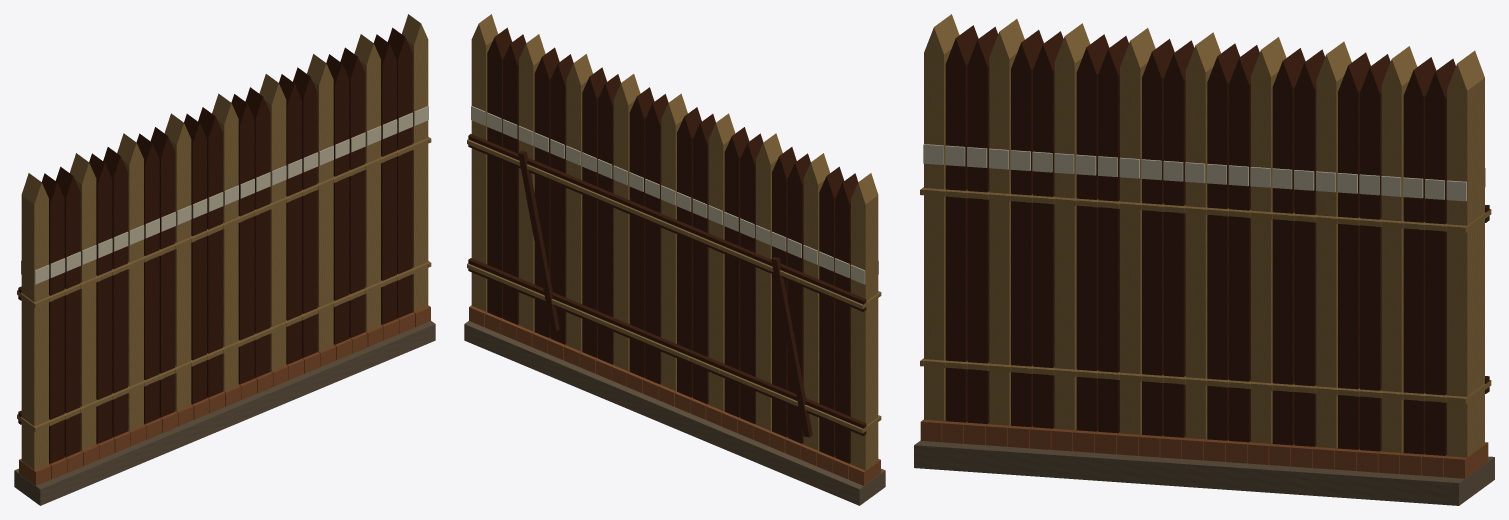
File: Berber_Palisade_Age3_slope_up_6m.fbx
The picture shows the model from 3 angles, left to right: view 1: azimuth 30°, elevation 25°; view 2: azimuth 150°, elevation 25°; view 3: azimuth 330°, elevation 25°; orthographic projection. The views are drawn at different scales.
Parts seen in each view (by area): view 1: palm_split_post.051, palm_split_post.049, palm_split_post.047, palm_split_post.054, palm_split_post.044, palm_split_post.050, earth_seat.007, palm_split_post.053, palm_split_post.056, post_earth_socket.007, neutral_owner_band.007, front_lashing.007 (+1 smaller); view 2: palm_split_post.049, palm_split_post.054, palm_split_post.044, palm_split_post.047, palm_split_post.051, earth_seat.007, palm_split_post.050, palm_split_post.053, palm_split_post.056, continuous_rear_tie.007, post_earth_socket.007, neutral_owner_band.007 (+3 smaller); view 3: palm_split_post.049, palm_split_post.047, palm_split_post.054, palm_split_post.051, palm_split_post.044, palm_split_post.053, palm_split_post.056, palm_split_post.050, earth_seat.007, post_earth_socket.007, neutral_owner_band.007, front_lashing.007 (+1 smaller).
Boxes of the visible parts, x1,y1,x2,y2 form: palm_split_post.051: (89,47,365,443); palm_split_post.049: (56,34,396,457); palm_split_post.047: (41,67,317,463); palm_split_post.054: (136,27,412,423); palm_split_post.044: (21,14,428,470); palm_split_post.050: (70,74,286,450); earth_seat.007: (14,321,435,505); palm_split_post.053: (117,54,333,430); palm_split_post.056: (164,34,380,410); post_earth_socket.007: (19,305,430,485); neutral_owner_band.007: (21,106,428,284); front_lashing.007: (34,138,430,430); palm_split_post.049: (503,34,843,457); palm_split_post.054: (487,27,763,423); palm_split_post.044: (471,14,878,470); palm_split_post.047: (582,67,858,463); palm_split_post.051: (534,47,810,443); earth_seat.007: (464,321,885,505); palm_split_post.050: (613,74,829,450); palm_split_post.053: (566,54,782,430); palm_split_post.056: (519,34,735,410); continuous_rear_tie.007: (468,134,866,435); post_earth_socket.007: (469,305,880,485); neutral_owner_band.007: (471,106,878,284); palm_split_post.049: (967,26,1436,454); palm_split_post.047: (945,25,1325,446); palm_split_post.054: (1076,34,1455,455); palm_split_post.051: (1011,30,1390,451); palm_split_post.044: (924,14,1484,457); palm_split_post.053: (1054,23,1351,448); palm_split_post.056: (1120,28,1417,452); palm_split_post.050: (989,19,1286,443); earth_seat.007: (914,440,1494,505); post_earth_socket.007: (920,419,1488,478); neutral_owner_band.007: (923,144,1485,201); front_lashing.007: (921,188,1466,403).
Bounding box in the file's own units: 601 × 556 × 68.29.
Materials: 5 (5 with a texture image).
